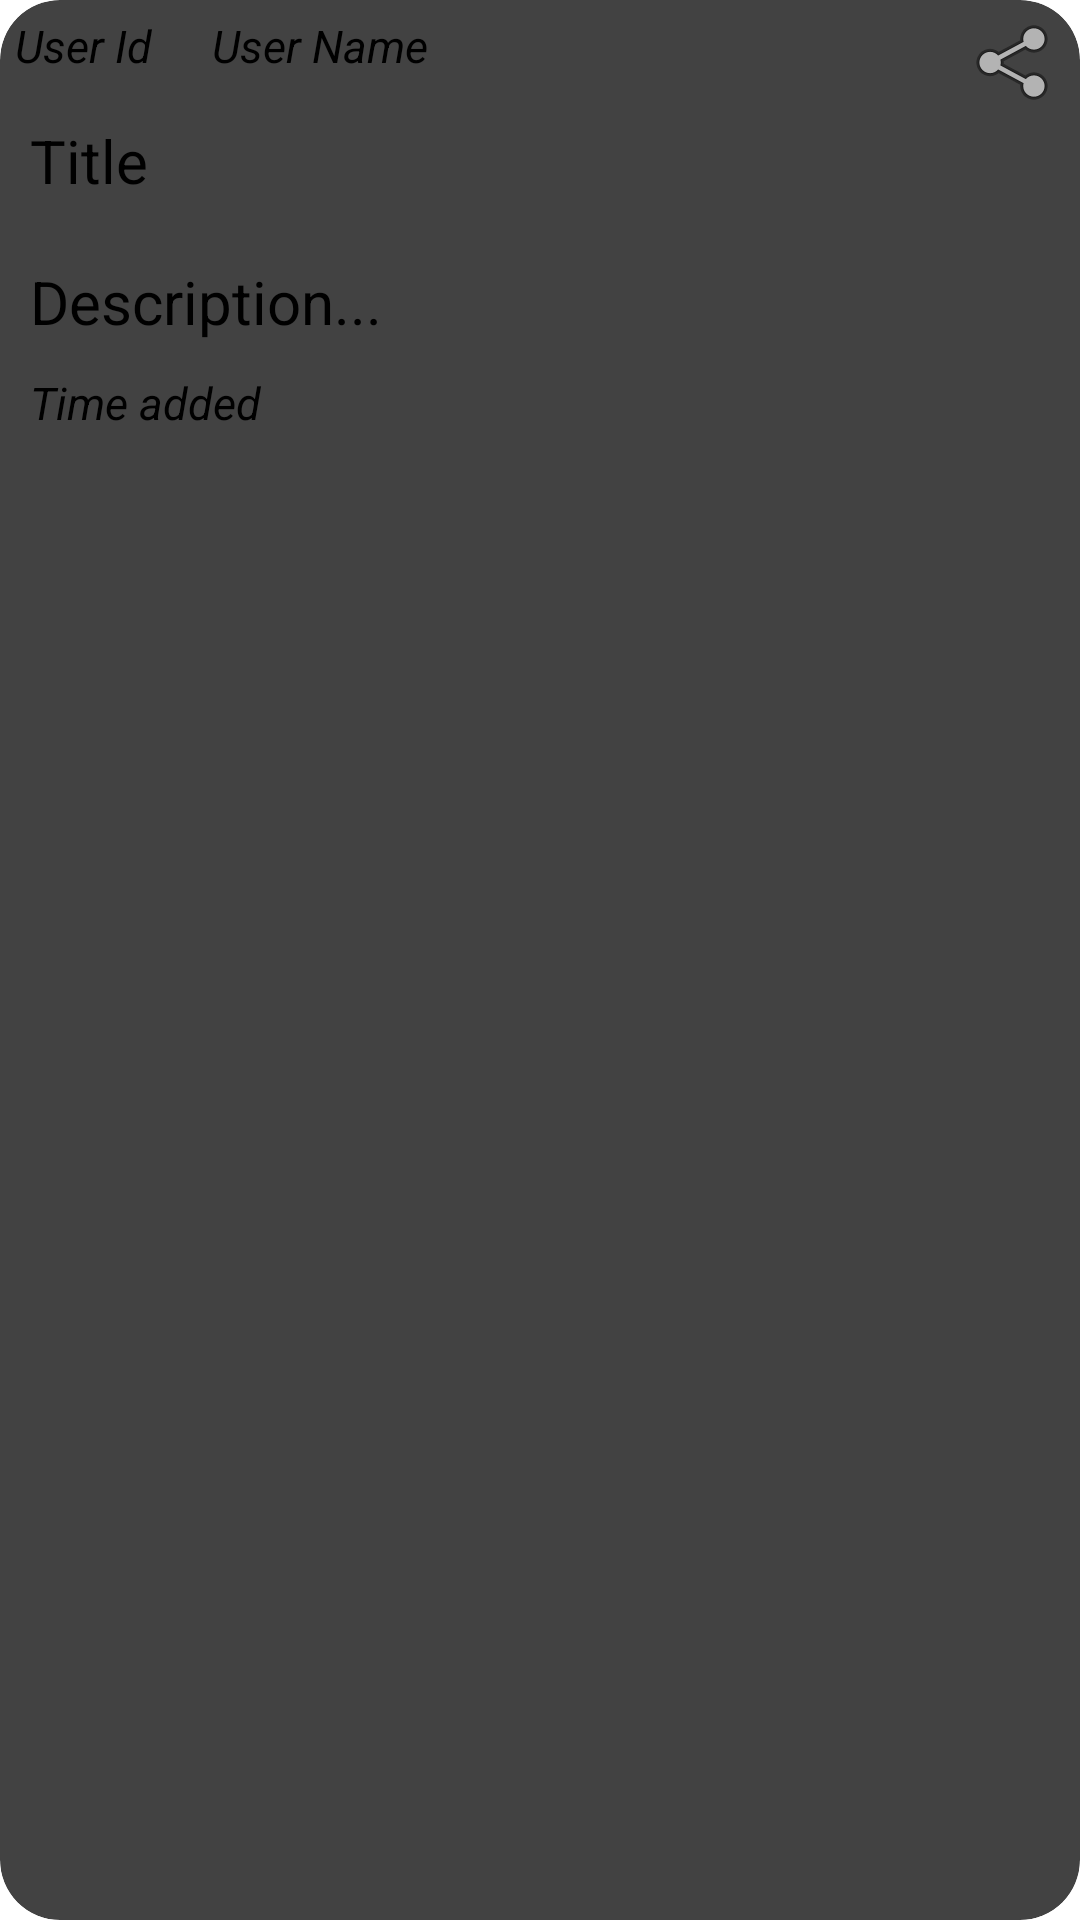

Where icons sit on this 1080w x 1920h app screen, as (x1, y1, x2, y2):
share: (977, 26, 1047, 99)
